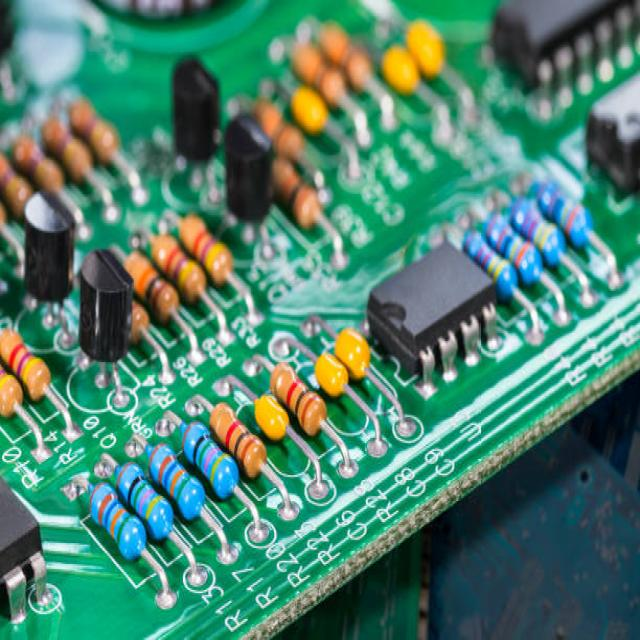IC: (367, 236, 503, 384)
resistor: (117, 459, 174, 552), (0, 321, 53, 413), (123, 255, 185, 333), (149, 438, 204, 524), (90, 482, 144, 568), (463, 233, 516, 317), (213, 394, 264, 481), (174, 209, 228, 291), (186, 419, 237, 501), (489, 214, 539, 292), (152, 232, 201, 310), (274, 366, 325, 429)
transistor: (70, 238, 140, 426), (222, 105, 280, 267), (18, 192, 80, 338), (166, 54, 218, 210)
